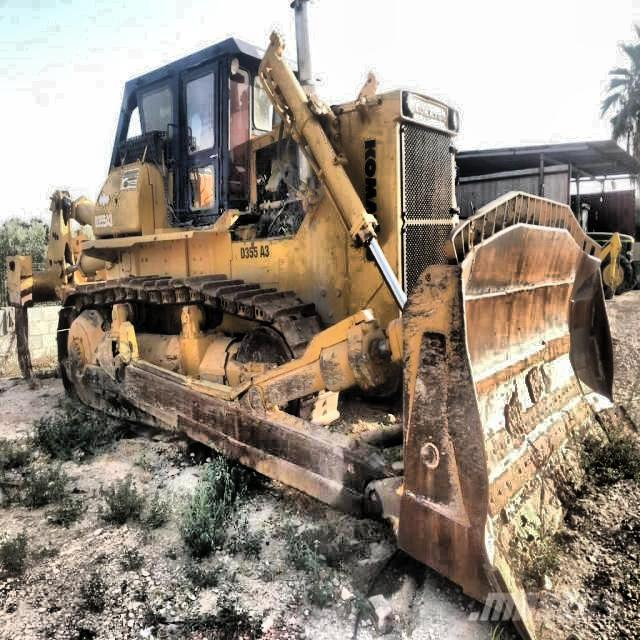bull_dozer/loader/grader: (31, 20, 640, 628)
